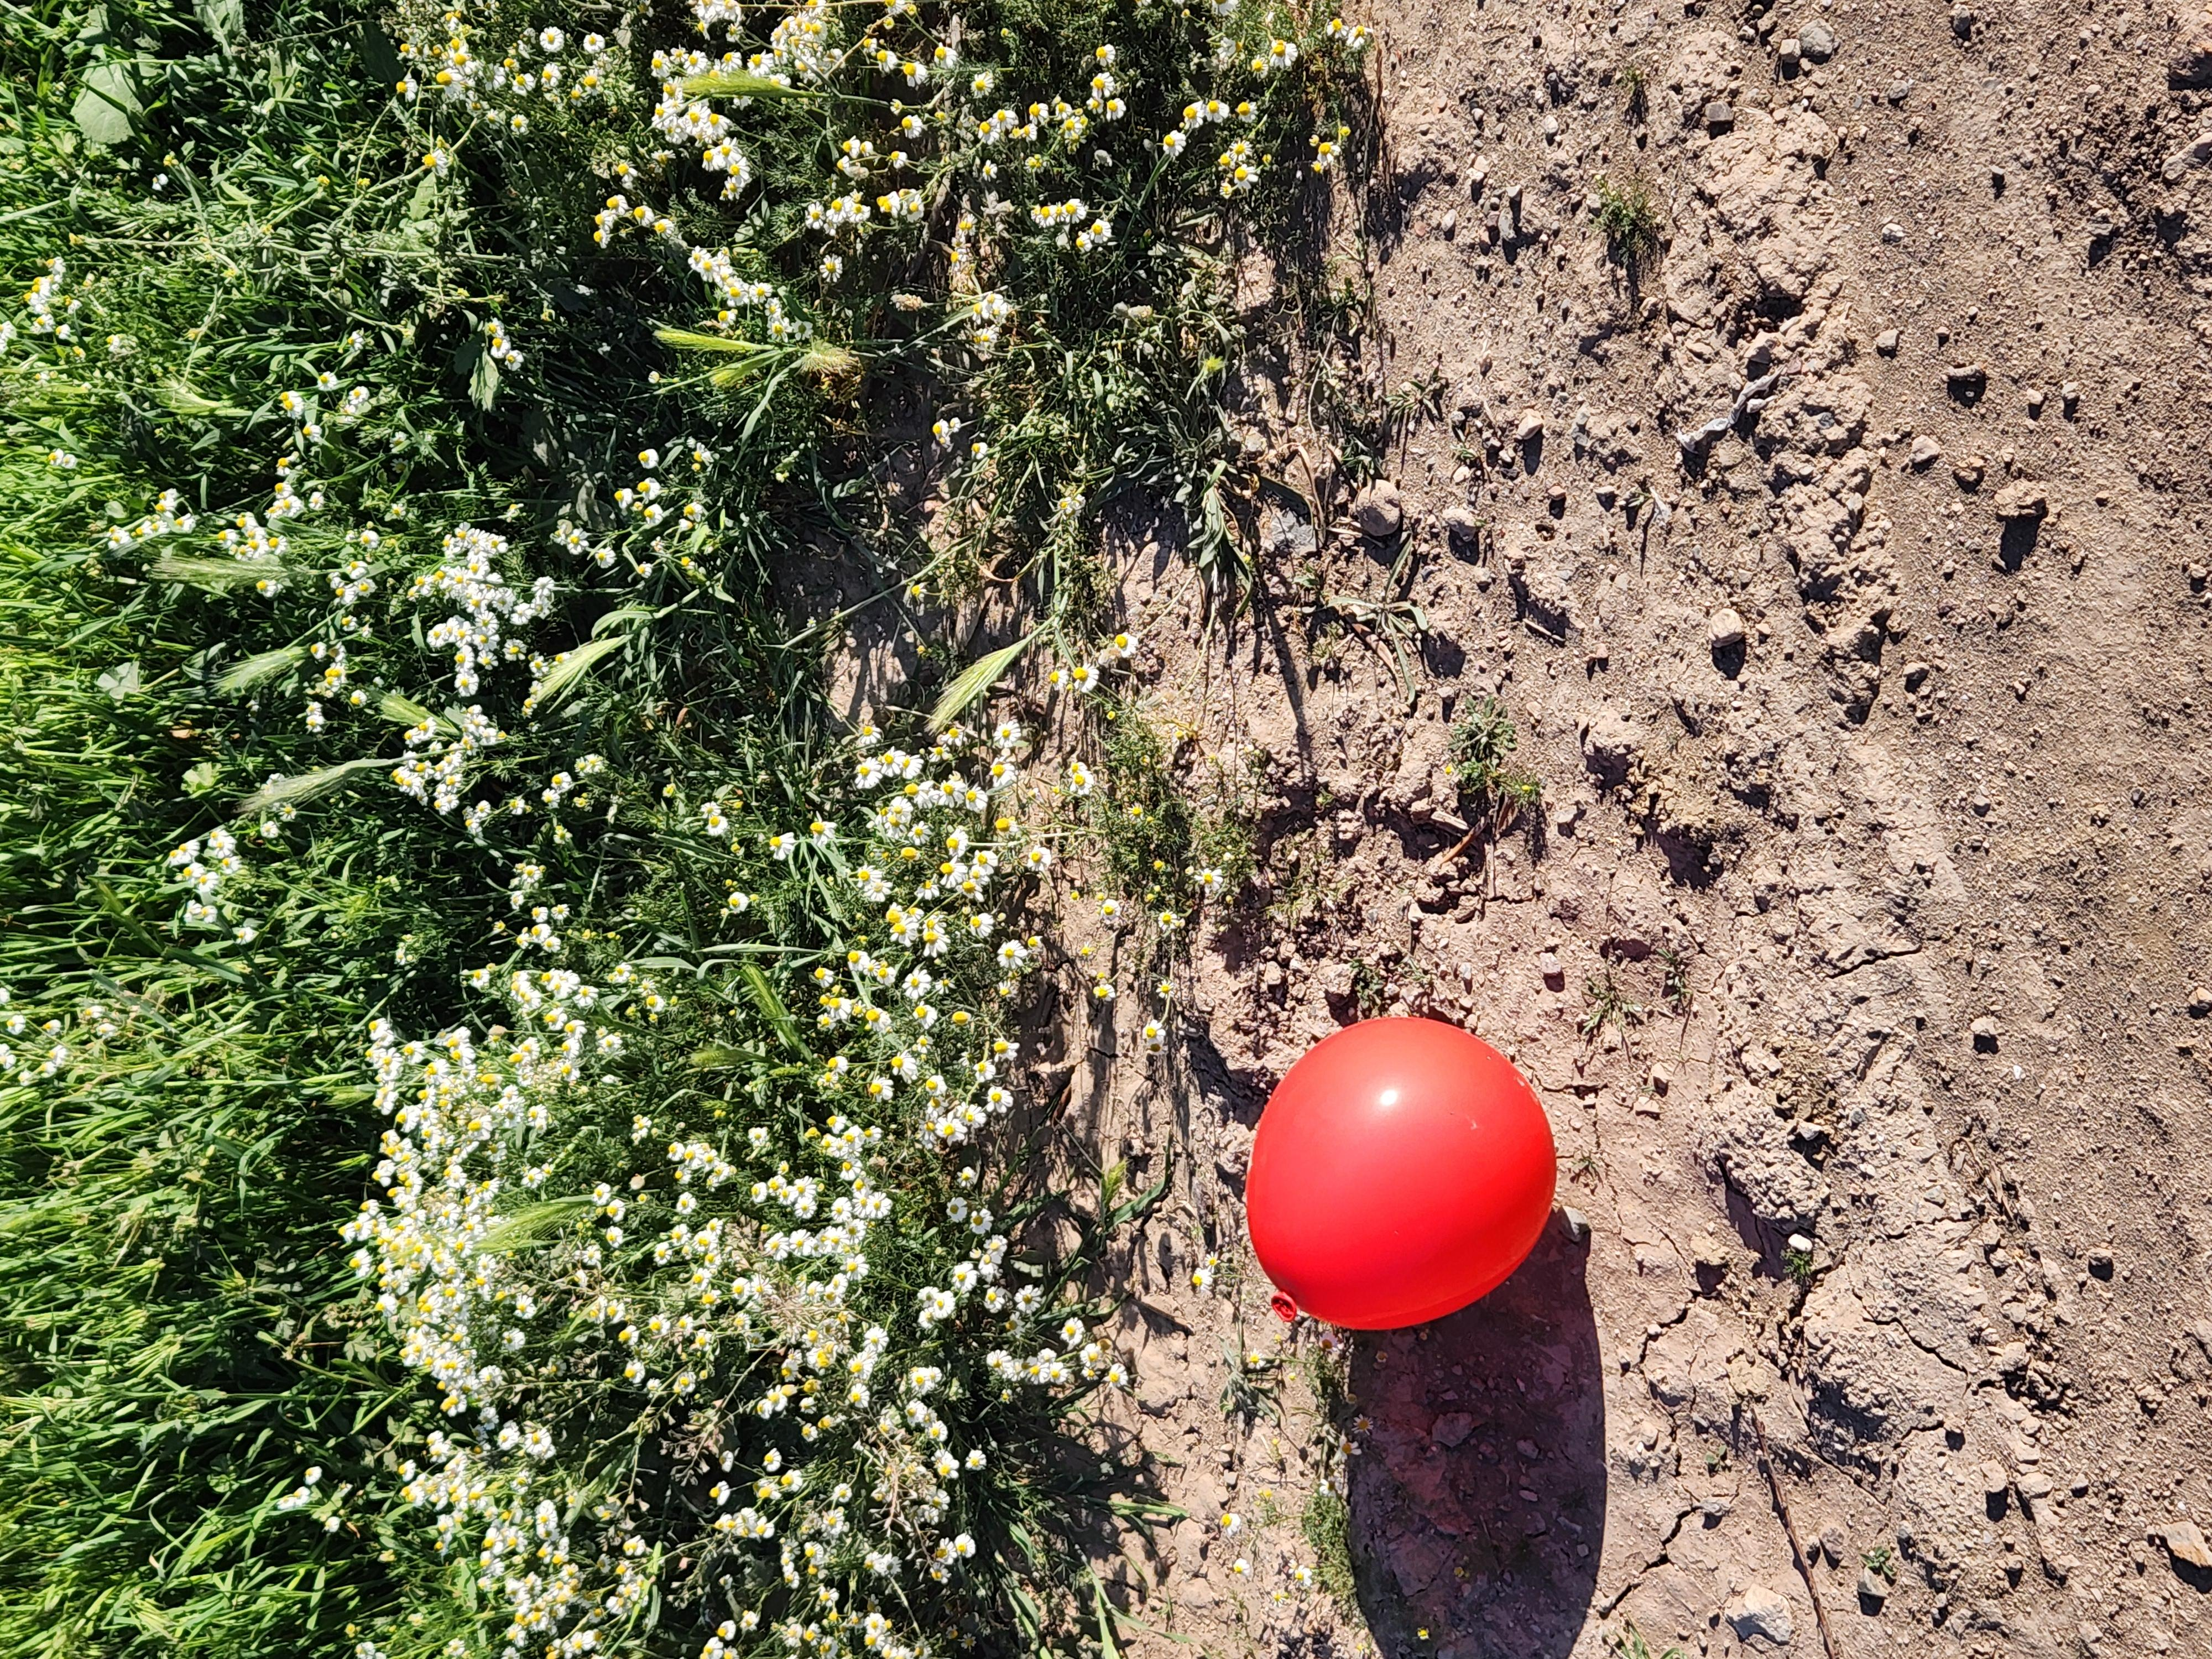red: (415, 925, 867, 1185)
